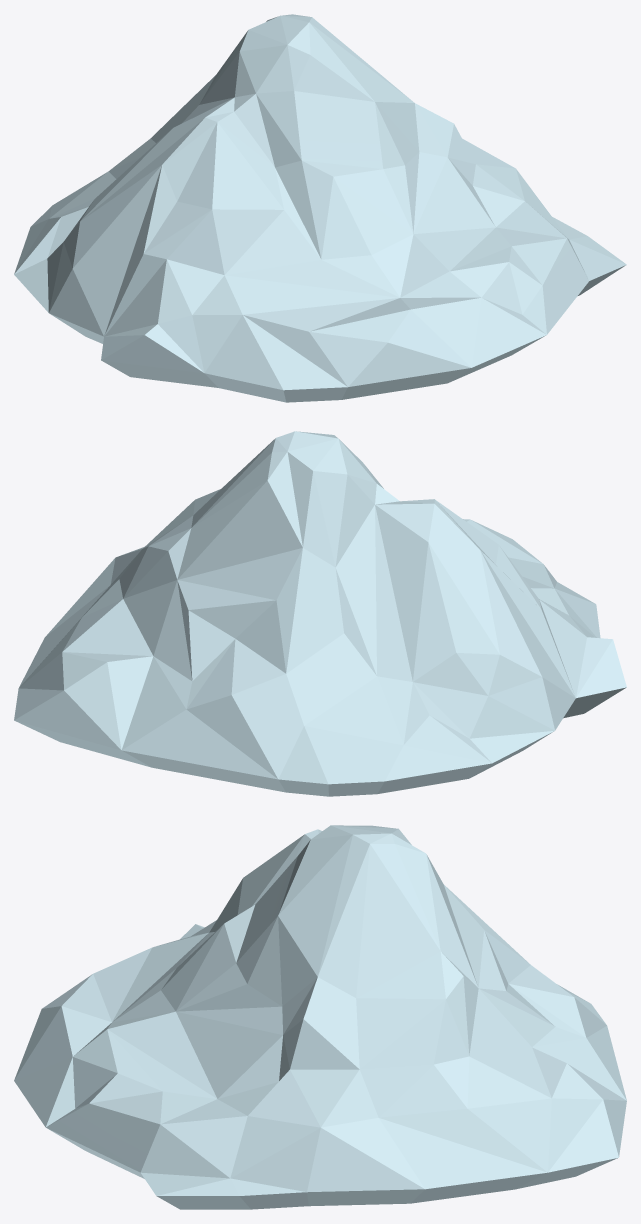
File: SM_Env_SnowPile_02.gltf
The picture shows the model from 3 angles, top to bottom: view 1: azimuth 30°, elevation 25°; view 2: azimuth 150°, elevation 25°; view 3: azimuth 270°, elevation 25°; orthographic projection. The views are drawn at different scales.
Parts seen in each view (by area): view 1: SM_Env_SnowPile_02; view 2: SM_Env_SnowPile_02; view 3: SM_Env_SnowPile_02.
Part boxes in pixels (left/top/right/bottom): SM_Env_SnowPile_02: left=14, top=14, right=626, bottom=402; SM_Env_SnowPile_02: left=14, top=431, right=626, bottom=796; SM_Env_SnowPile_02: left=14, top=825, right=626, bottom=1209.
Size of the model in its own units: 2.03 by 1.02 by 2.06.
1 material, 1 textured.
